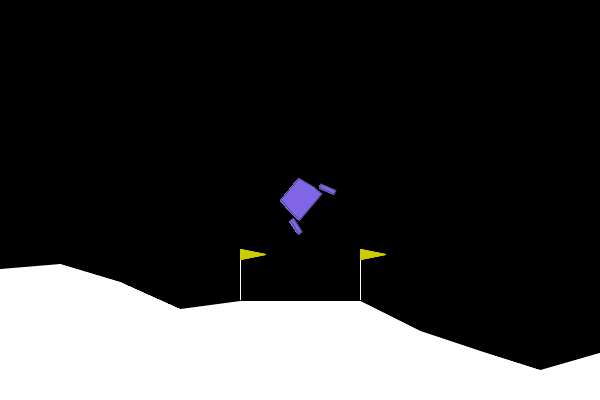lander: (269, 165, 338, 237)
